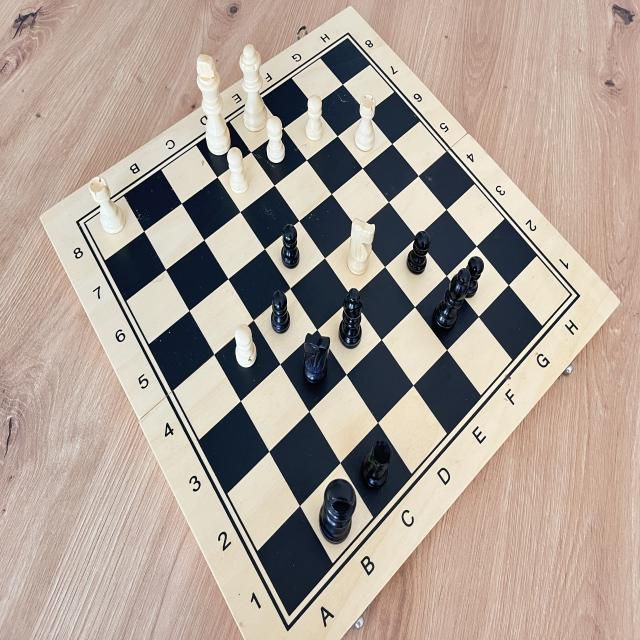black-bishop: (428, 264, 474, 336), (333, 281, 368, 350)
black-king: (311, 469, 361, 557)
black-knight: (296, 323, 335, 399)
black-pawn: (455, 250, 491, 310), (400, 227, 432, 280), (263, 286, 294, 339), (276, 218, 302, 276)
black-rook: (357, 431, 399, 506)
white-bishop: (342, 214, 380, 282)
white-king: (191, 49, 240, 162)
white-pawn: (225, 144, 252, 201), (230, 322, 260, 371), (262, 112, 287, 165), (302, 92, 326, 142)
white-queen: (236, 38, 274, 136)
white-rook: (82, 169, 131, 238), (347, 88, 380, 158)
